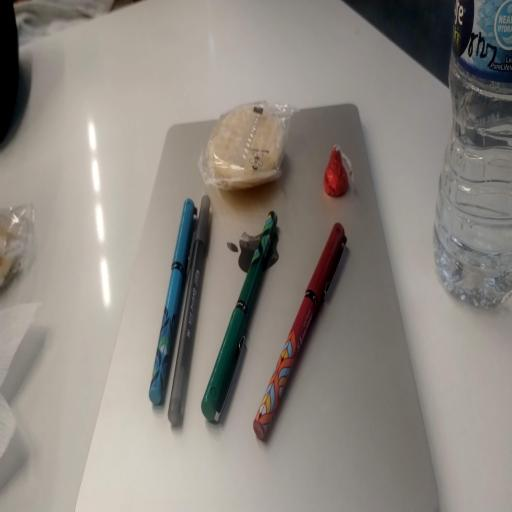chocolate: (324, 145, 353, 196)
pen: (254, 223, 346, 439), (202, 212, 277, 421), (168, 195, 210, 426), (149, 199, 194, 404)
waterbottle: (434, 0, 511, 306)
